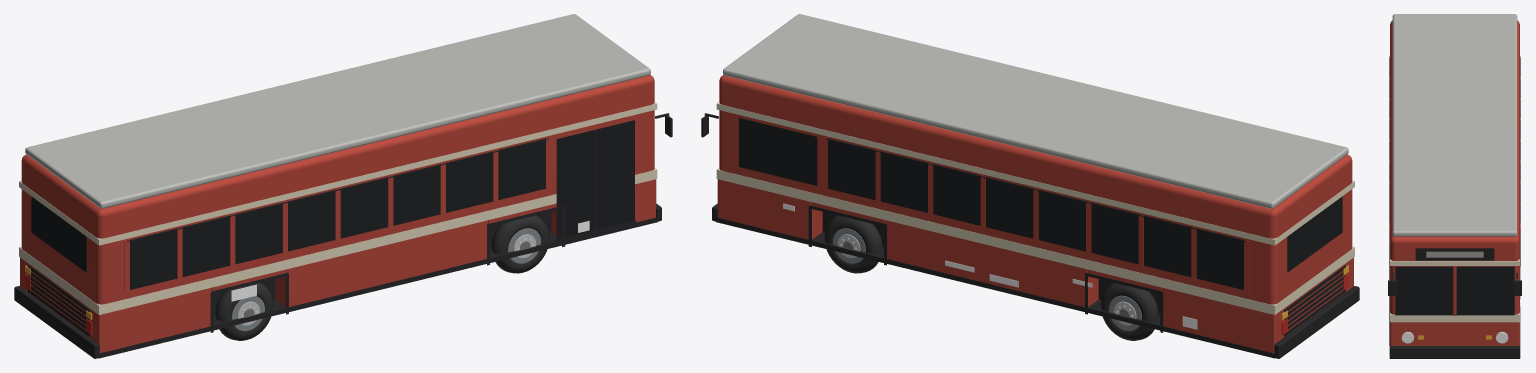
Rendered from bus.glb.
3 renders of one model, left to right at view 1: azimuth 30°, elevation 25°; view 2: azimuth 150°, elevation 25°; view 3: azimuth 270°, elevation 25°, orthographic. The views are drawn at different scales.
Visible parts, largest first — view 1: SM_bus; view 2: SM_bus; view 3: SM_bus.
Part boxes in pixels (x1,y1,x2,y2): SM_bus: [14, 14, 672, 358]; SM_bus: [701, 14, 1359, 358]; SM_bus: [1388, 14, 1521, 358].
Bounding box in the file's own units: 10.35 × 3 × 2.56.
